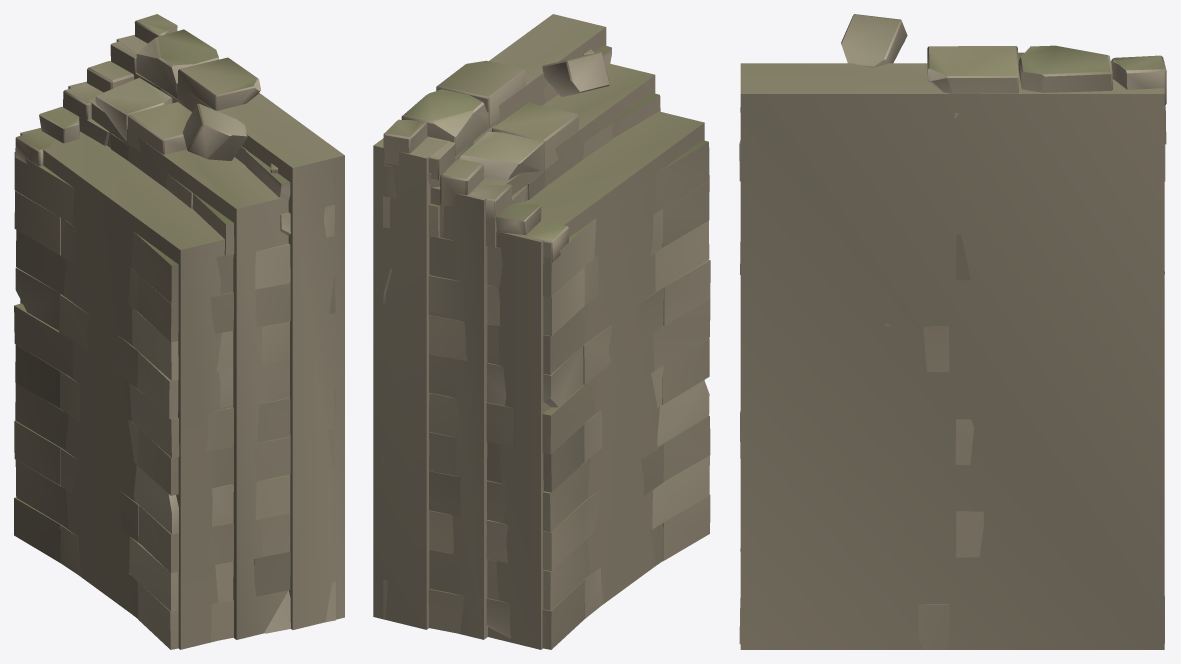
Rendered from theatre_seat_broken_4.glb.
3 renders of one model, left to right at view 1: azimuth 30°, elevation 25°; view 2: azimuth 150°, elevation 25°; view 3: azimuth 270°, elevation 25°, orthographic. The views are drawn at different scales.
Parts seen in each view (by area): view 1: theatre_seat_broken_4_far, theatre_seat_broken_4; view 2: theatre_seat_broken_4_far, theatre_seat_broken_4; view 3: theatre_seat_broken_4_far, theatre_seat_broken_4.
Boxes of the visible parts, x1,y1,x2,y2 form: theatre_seat_broken_4_far: (20,35,344,649); theatre_seat_broken_4: (14,14,335,649); theatre_seat_broken_4_far: (373,14,704,649); theatre_seat_broken_4: (383,45,710,649); theatre_seat_broken_4_far: (740,63,1164,649); theatre_seat_broken_4: (739,14,1166,649).
Bounding box in the file's own units: 8.9 × 24.87 × 16.52.
